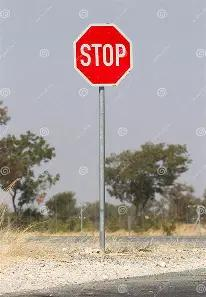Stop: (74, 25, 131, 86)
